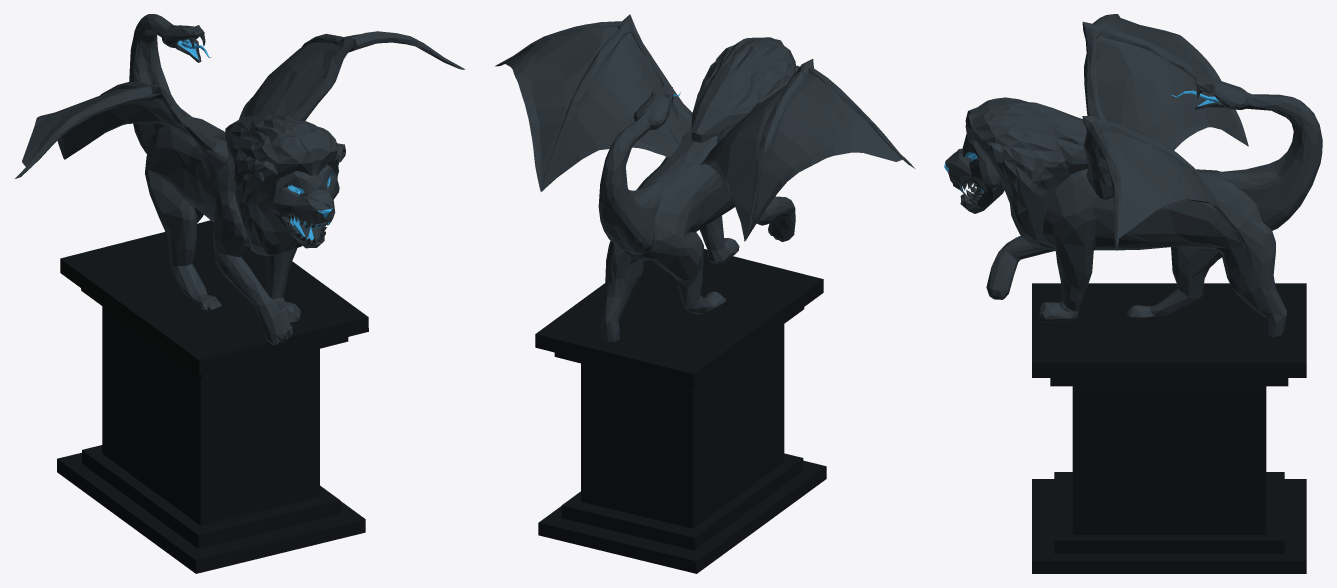
The model's file is Kimera.fbx.
The picture shows the model from 3 angles, left to right: view 1: azimuth 30°, elevation 25°; view 2: azimuth 150°, elevation 25°; view 3: azimuth 270°, elevation 25°; orthographic projection. The views are drawn at different scales.
Parts seen in each view (by area): view 1: Plane, PolySphere_1, Plane.001, PM3D_Sphere3D1_7_copy1, PM3D_Sphere3D1_7; view 2: PolySphere_1, Plane, Plane.001, PM3D_Sphere3D1_7_copy1, PM3D_Sphere3D1_7; view 3: Plane, PolySphere_1, Plane.001, PM3D_Sphere3D1_7_copy1, PM3D_Sphere3D1_7.
Part boxes in pixels (bbox=[...]): Plane: bbox=[57, 306, 365, 573]; PolySphere_1: bbox=[15, 31, 464, 345]; Plane.001: bbox=[60, 220, 368, 378]; PM3D_Sphere3D1_7_copy1: bbox=[225, 115, 345, 256]; PM3D_Sphere3D1_7: bbox=[129, 14, 211, 153]; PolySphere_1: bbox=[495, 14, 914, 341]; Plane: bbox=[538, 324, 826, 573]; Plane.001: bbox=[535, 249, 823, 391]; PM3D_Sphere3D1_7_copy1: bbox=[691, 37, 799, 142]; PM3D_Sphere3D1_7: bbox=[598, 85, 680, 259]; Plane: bbox=[1032, 386, 1306, 573]; PolySphere_1: bbox=[986, 14, 1286, 336]; Plane.001: bbox=[1032, 283, 1306, 386]; PM3D_Sphere3D1_7_copy1: bbox=[944, 97, 1088, 250]; PM3D_Sphere3D1_7: bbox=[1170, 76, 1322, 230].
Bounding box in the file's own units: 532 × 531 × 392.
4 materials, 3 textured.
